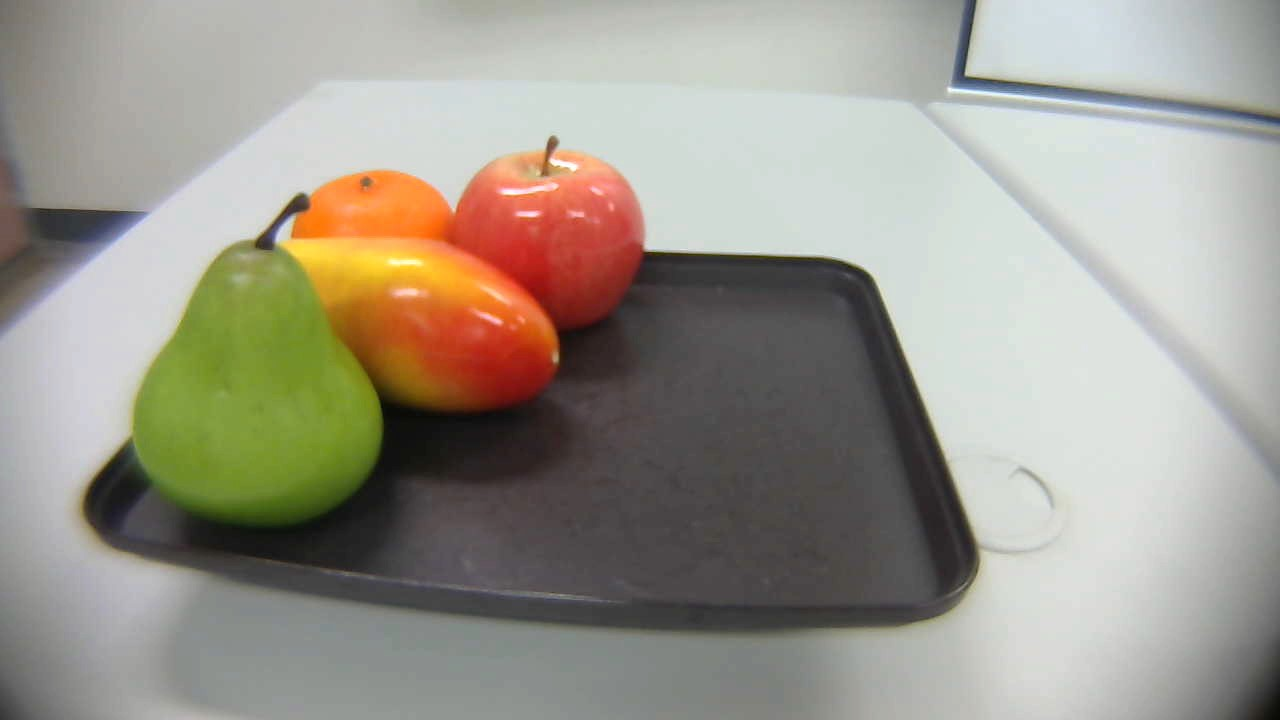green pear: (115, 191, 395, 528)
orange: (292, 163, 472, 278)
red apple: (442, 133, 650, 343)
red mango: (257, 224, 577, 429)
